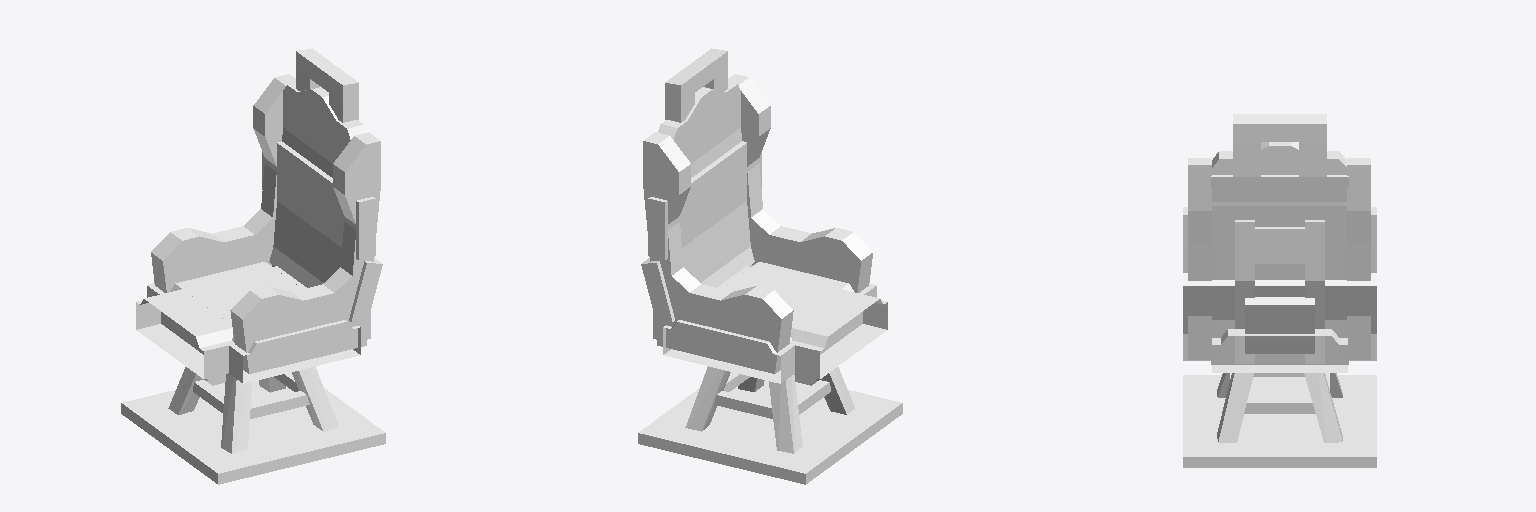
The model's file is seat.obj.
The picture shows the model from 3 angles: view 1: azimuth 30°, elevation 25°; view 2: azimuth 150°, elevation 25°; view 3: azimuth 270°, elevation 25°; orthographic projection.
Parts seen in each view (by area): view 1: fancyBackWood, carpet, backCloth, backCloth2, bench2, backWood2Top, benchSeat2, seat, leg3, bench3, leg4, backCloth1connect3 (+6 smaller); view 2: fancyBackWood, carpet, backCloth, backCloth2, bench2, backWood2Top, benchSeat2, seat, leg2, bench1, leg1, backCloth1connect1 (+6 smaller); view 3: carpet, fancyBackWood, backWood2Top, backSupport, backCloth2, backsupport2, backWood2, backCloth003, leg4, backCloth2connect1, backCloth2connect3, leg1 (+2 smaller).
Part boxes in pixels (x1,y1,x2,y2): fancyBackWood: (151,74,380,373); carpet: (121,380,385,484); backCloth: (281,144,339,245); backCloth2: (277,131,339,282); bench2: (136,300,228,378); backWood2Top: (296,48,358,122); benchSeat2: (140,289,232,347); seat: (183,267,301,324); leg3: (221,373,251,453); bench3: (225,326,360,383); leg4: (292,366,338,431); backCloth1connect3: (340,197,375,259); fancyBackWood: (643,74,872,373); carpet: (638,380,902,484); backCloth: (684,144,742,245); backCloth2: (684,131,746,282); bench2: (792,300,887,378); backWood2Top: (665,48,727,122); benchSeat2: (791,289,883,347); seat: (722,267,840,324); leg2: (769,374,802,453); bench1: (663,325,798,383); leg1: (685,366,730,431); backCloth1connect1: (648,197,683,259); carpet: (1183,375,1376,467); fancyBackWood: (1188,142,1370,359); backWood2Top: (1211,114,1348,201); backSupport: (1235,220,1324,363); backCloth2: (1221,206,1338,335); backsupport2: (1245,297,1314,353); backWood2: (1211,206,1348,364); backCloth003: (1221,280,1338,319); leg4: (1217,373,1253,442); backCloth2connect1: (1339,273,1376,333); backCloth2connect3: (1183,273,1220,333); leg1: (1304,373,1342,442).
Size of the model in its own units: 1.03 by 1.97 by 1.